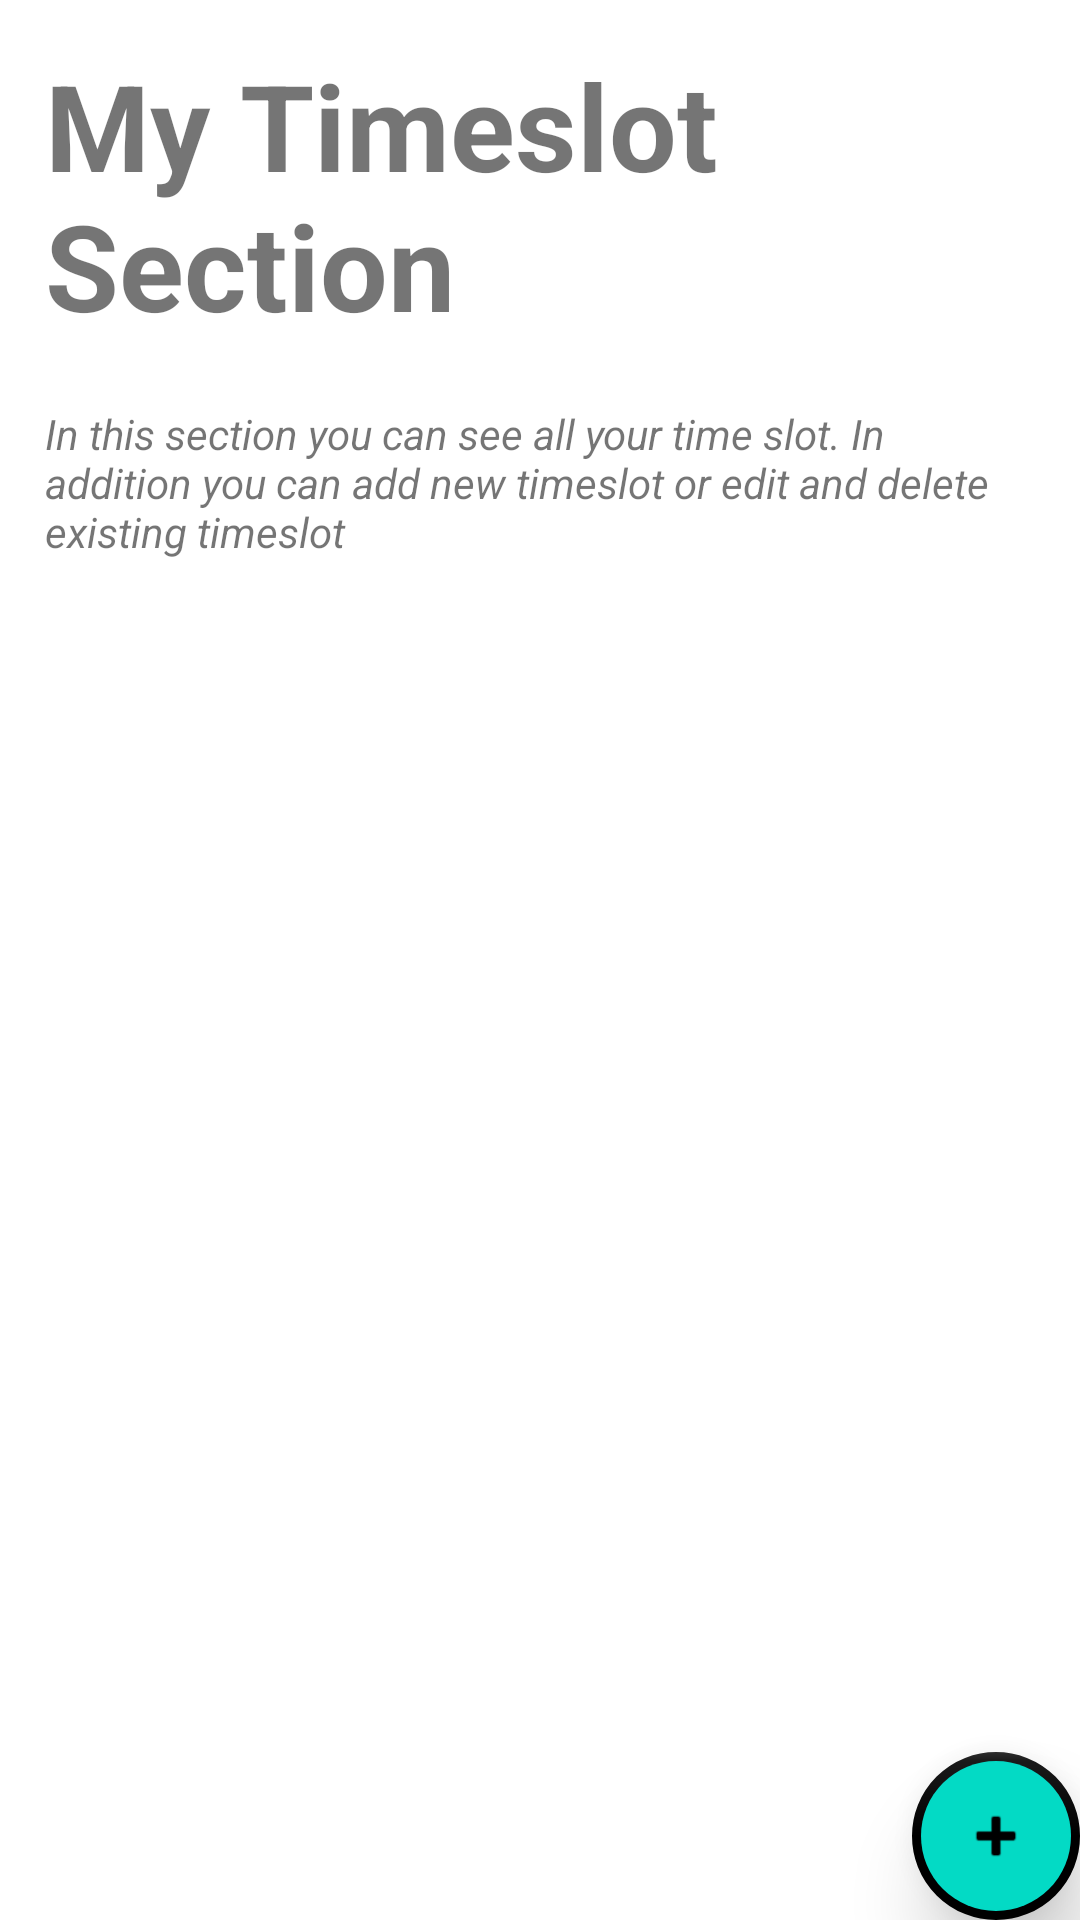

Screen size 1080w x 1920h. Icon name, then its box in pixels as (x1, y1, x2, y2):
Add a Timeslot: (912, 1752, 1080, 1920)
